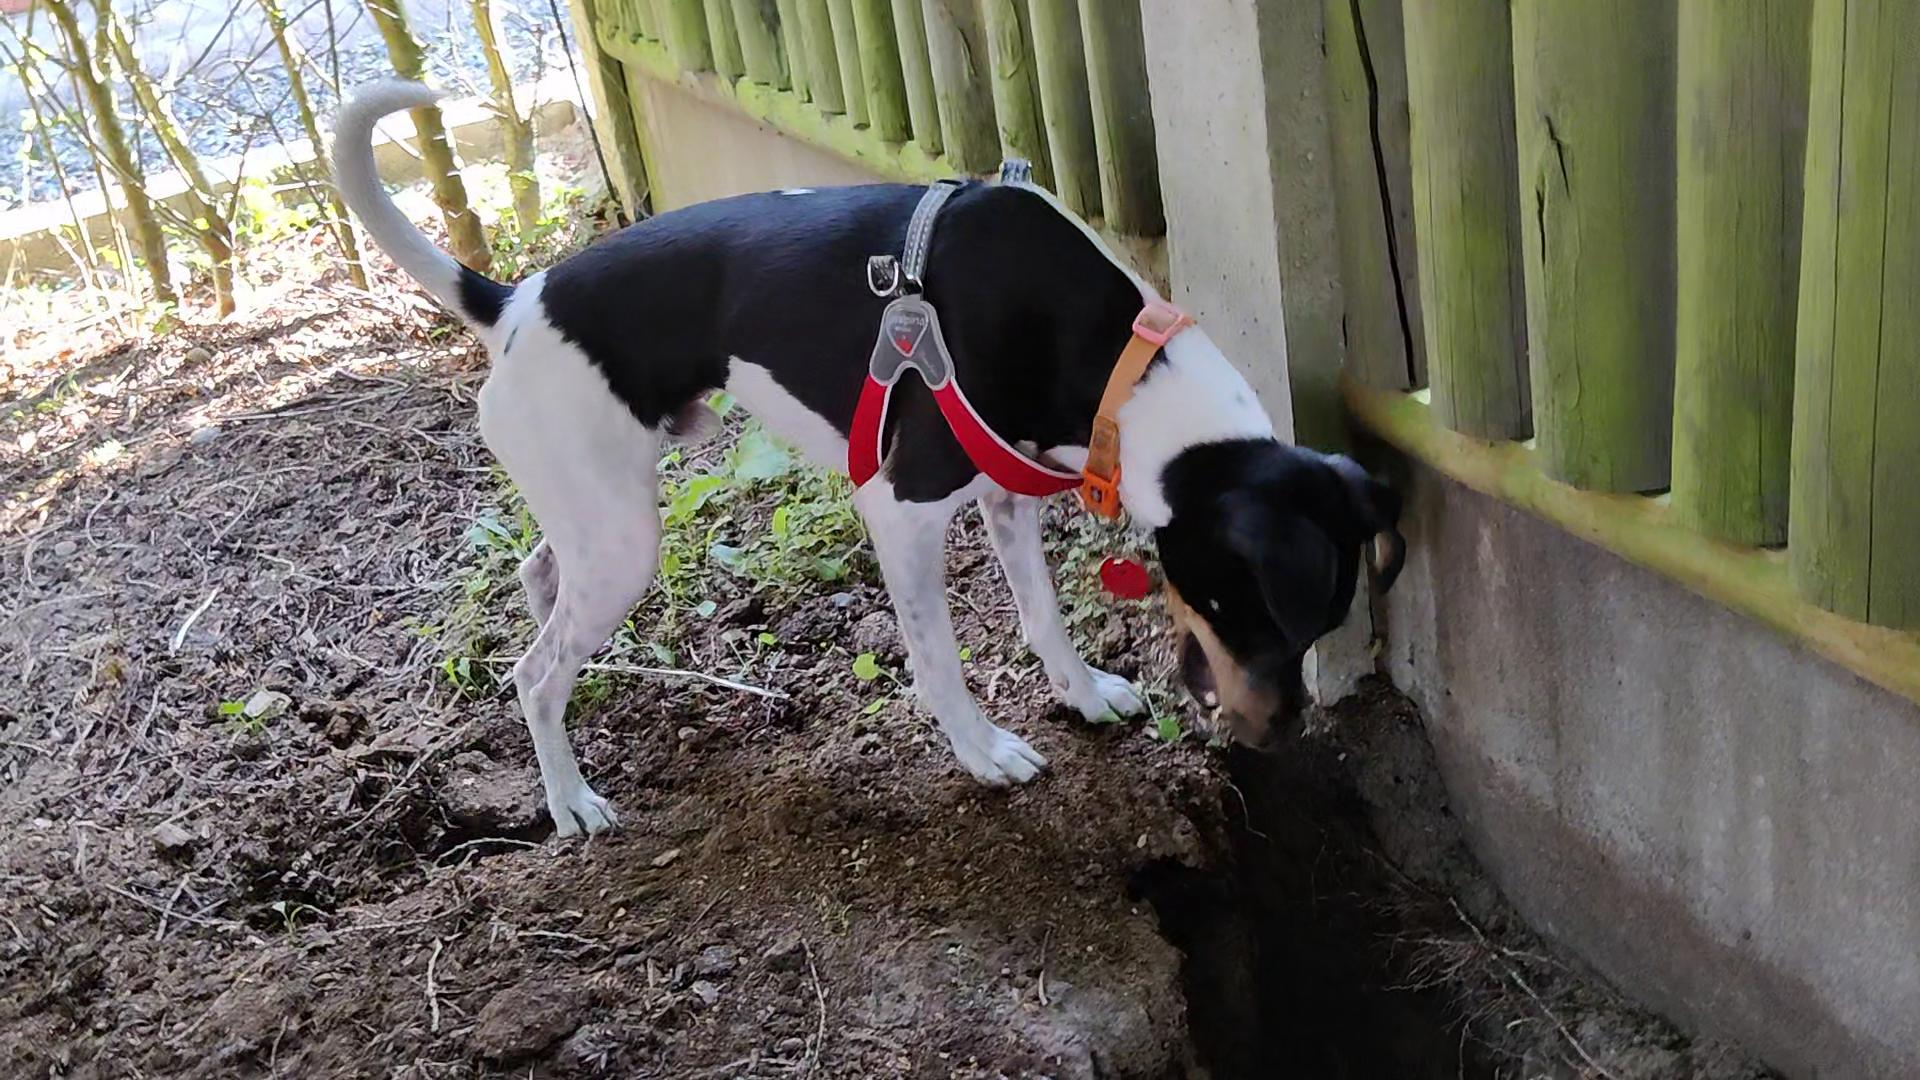Dog: (323, 51, 1422, 855)
